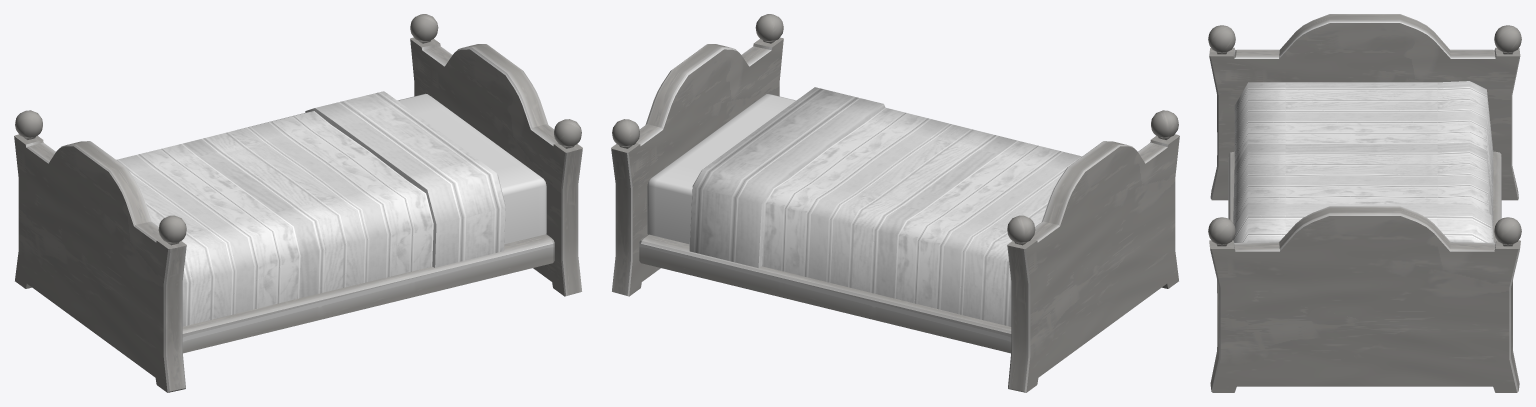
File: bed_trimmed.fbx
3 renders of one model, left to right at view 1: azimuth 30°, elevation 25°; view 2: azimuth 150°, elevation 25°; view 3: azimuth 270°, elevation 25°, orthographic.
Parts seen in each view (by area): view 1: bed.001; view 2: bed.001; view 3: bed.001.
Part boxes in pixels (x1,y1,x2,y2): bed.001: [14, 14, 582, 392]; bed.001: [611, 14, 1179, 392]; bed.001: [1208, 14, 1521, 392].
Bounding box in the file's own units: 339 × 139 × 220.
